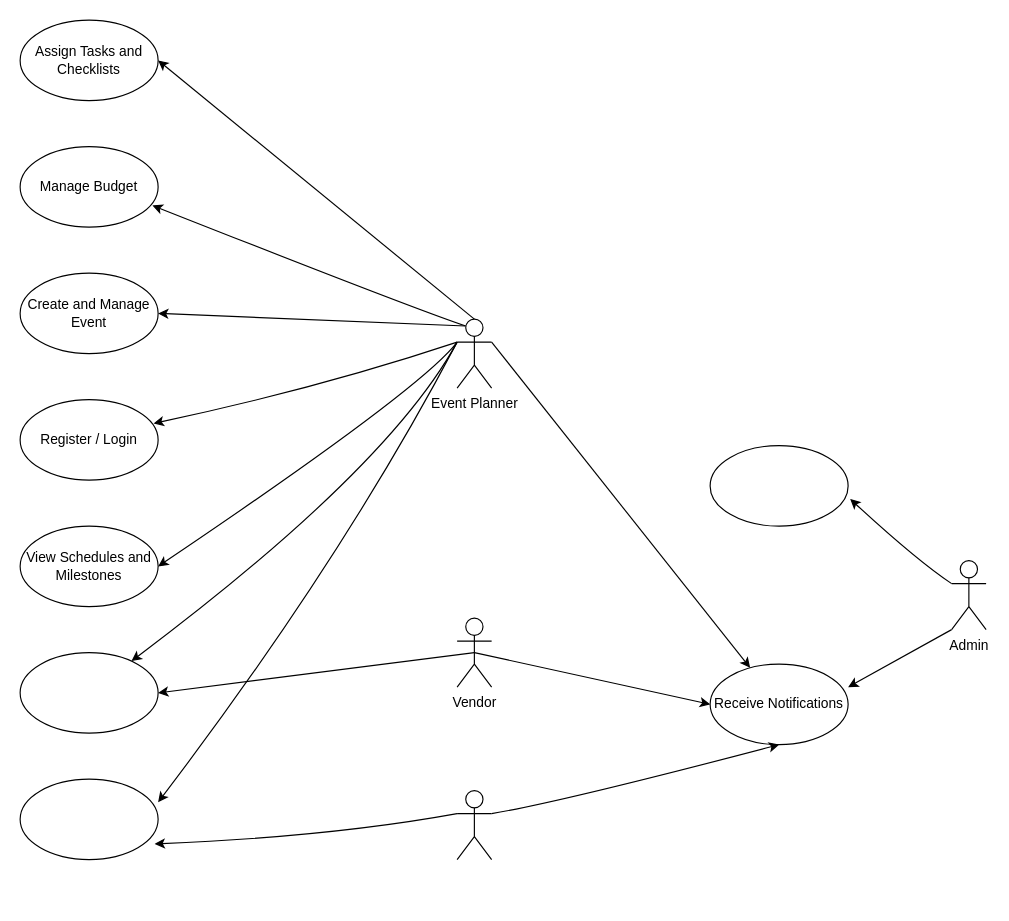
Image size: 1009x921. Some labels were removed from this diagram. The shapes that lost their labels are listed below. From the top down, each one's centre as x and y in pixels, then its label:
At point (778, 485): "Admin Settings and User Roles".
At point (88, 692): "Manage Vendors".
At point (88, 819): "Manage Guest List and Track RSVPs".
At point (474, 824): "Guest".
